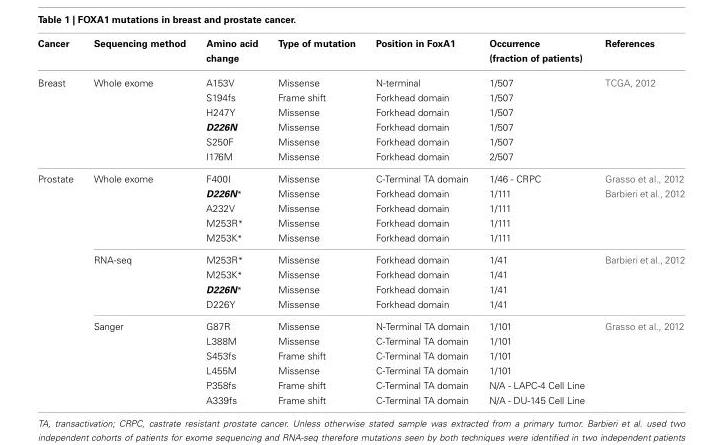table: (37, 37, 684, 405)
table column: (478, 37, 594, 405), (364, 37, 478, 405), (82, 37, 195, 405), (267, 37, 364, 405), (594, 37, 684, 405), (195, 37, 267, 405), (37, 37, 82, 405)
table column header: (37, 37, 684, 69)
table row: (37, 37, 684, 69), (37, 69, 684, 89), (37, 148, 684, 167), (37, 229, 684, 248), (37, 167, 684, 185), (37, 248, 684, 266), (37, 296, 684, 314), (37, 314, 684, 332), (37, 89, 684, 104), (37, 104, 684, 119), (37, 133, 684, 148), (37, 185, 684, 200), (37, 214, 684, 229), (37, 266, 684, 281), (37, 281, 684, 296), (37, 332, 684, 347), (37, 347, 684, 362), (37, 362, 684, 377), (37, 377, 684, 392), (37, 119, 684, 133), (37, 200, 684, 214), (37, 392, 684, 405)
table spanning cell: (37, 167, 82, 405), (37, 69, 82, 167)
